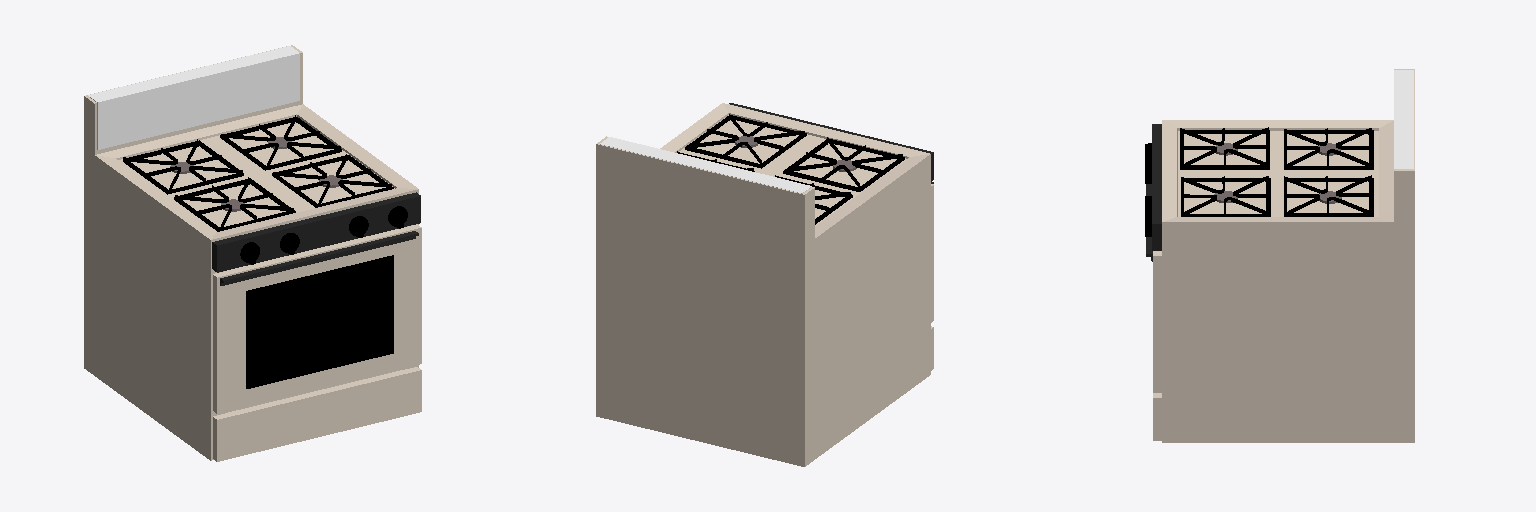
The model's file is stove.obj.
The picture shows the model from 3 angles: view 1: azimuth 30°, elevation 25°; view 2: azimuth 150°, elevation 25°; view 3: azimuth 270°, elevation 25°; orthographic projection.
Parts seen in each view (by area): view 1: stoveshell, ovenwindow, Ovendoor, PolyMesh_1, bottomstorage, Controlpanel, newcover_1, newcover_2, newcover_3, newcover, PolyMesh_4; view 2: stoveshell, PolyMesh_1, newcover_3, newcover, newcover_2, Controlpanel; view 3: stoveshell, PolyMesh_1, newcover_3, newcover_2, newcover_1, newcover, Ovendoor, Controlpanel.
Part boxes in pixels (left/top/right/bottom): stoveshell: left=84, top=45, right=418, bottom=460; ovenwindow: left=246, top=255, right=393, bottom=388; Ovendoor: left=213, top=224, right=421, bottom=413; PolyMesh_1: left=88, top=46, right=299, bottom=149; bottomstorage: left=213, top=367, right=421, bottom=461; Controlpanel: left=212, top=192, right=420, bottom=272; newcover_1: left=220, top=115, right=341, bottom=170; newcover_2: left=123, top=139, right=243, bottom=194; newcover_3: left=174, top=177, right=295, bottom=231; newcover: left=272, top=154, right=393, bottom=207; PolyMesh_4: left=220, top=231, right=418, bottom=285; stoveshell: left=596, top=103, right=930, bottom=466; PolyMesh_1: left=600, top=137, right=811, bottom=193; newcover_3: left=783, top=137, right=904, bottom=191; newcover: left=685, top=114, right=806, bottom=168; newcover_2: left=775, top=175, right=852, bottom=224; Controlpanel: left=729, top=103, right=933, bottom=181; stoveshell: left=1162, top=69, right=1414, bottom=442; PolyMesh_1: left=1394, top=70, right=1413, bottom=168; newcover_3: left=1180, top=127, right=1269, bottom=169; newcover_2: left=1284, top=128, right=1373, bottom=169; newcover_1: left=1284, top=175, right=1373, bottom=216; newcover: left=1181, top=176, right=1270, bottom=216; Ovendoor: left=1153, top=251, right=1161, bottom=392; Controlpanel: left=1152, top=124, right=1161, bottom=250.
Size of the model in its own units: 6.12 by 7.64 by 6.87.